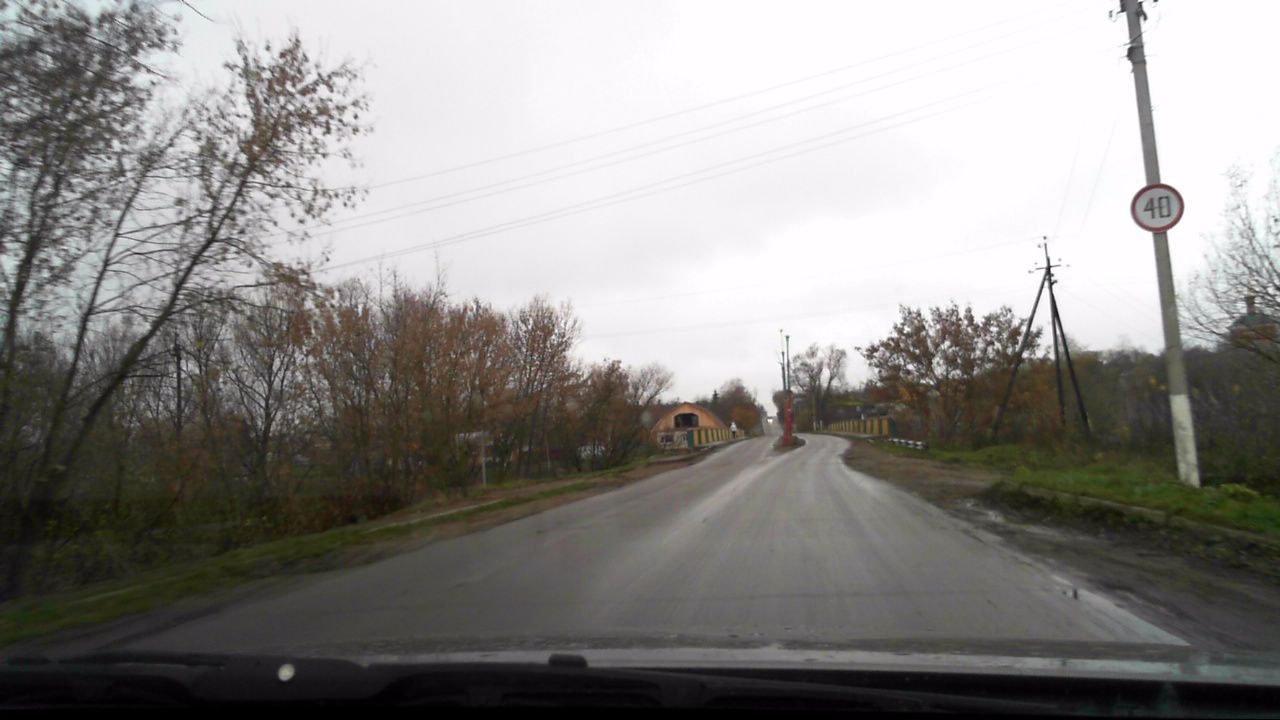speed_warning_40: (1131, 184, 1183, 233)
